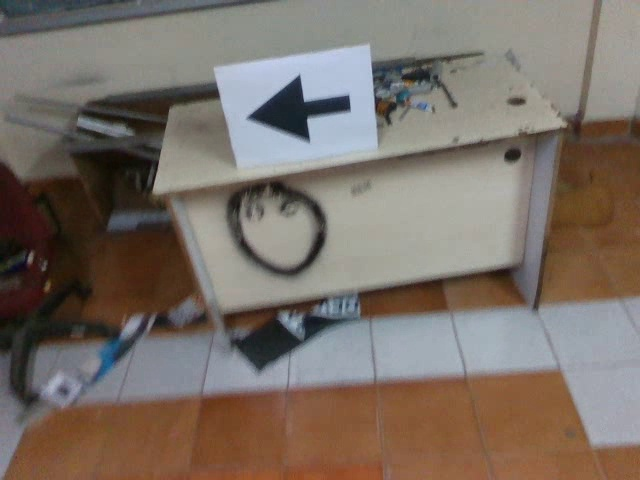Left: (243, 71, 356, 146)
